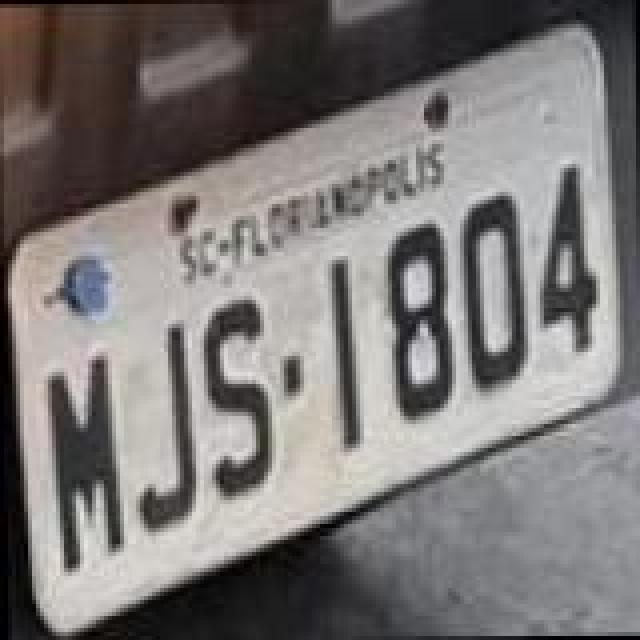1: (326, 252, 366, 452)
4: (534, 162, 602, 358)
8: (380, 216, 456, 420)
J: (130, 316, 198, 536)
M: (36, 350, 124, 578)
O: (460, 190, 528, 390)
S: (202, 298, 278, 506)
